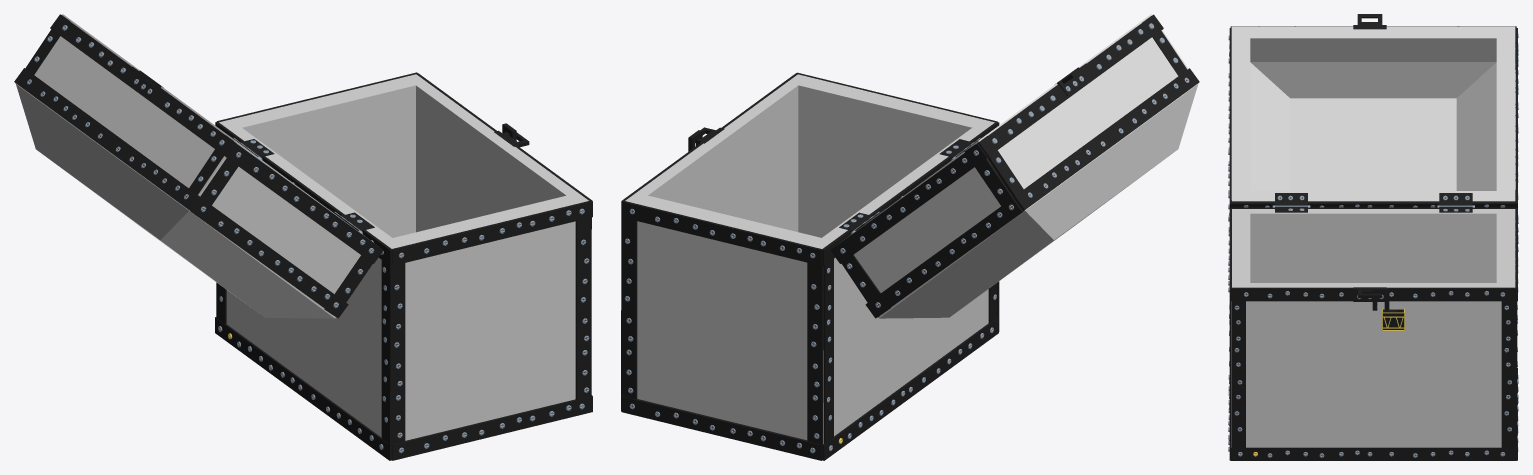
Rendered from chest_O-with-Lock -1.fbx.
3 views of the same model, side by side, from view 1: azimuth 30°, elevation 25°; view 2: azimuth 150°, elevation 25°; view 3: azimuth 270°, elevation 25° (orthographic). The views are drawn at different scales.
Visible parts, largest first — view 1: Cube.005; view 2: Cube.005; view 3: Cube.005.
Boxes of the visible parts, box(x1,y1,x2,y2) form: Cube.005: box(14, 14, 592, 460); Cube.005: box(621, 14, 1199, 460); Cube.005: box(1228, 14, 1518, 460).
Size of the model in its own units: 84.24 by 70.03 by 61.37.
